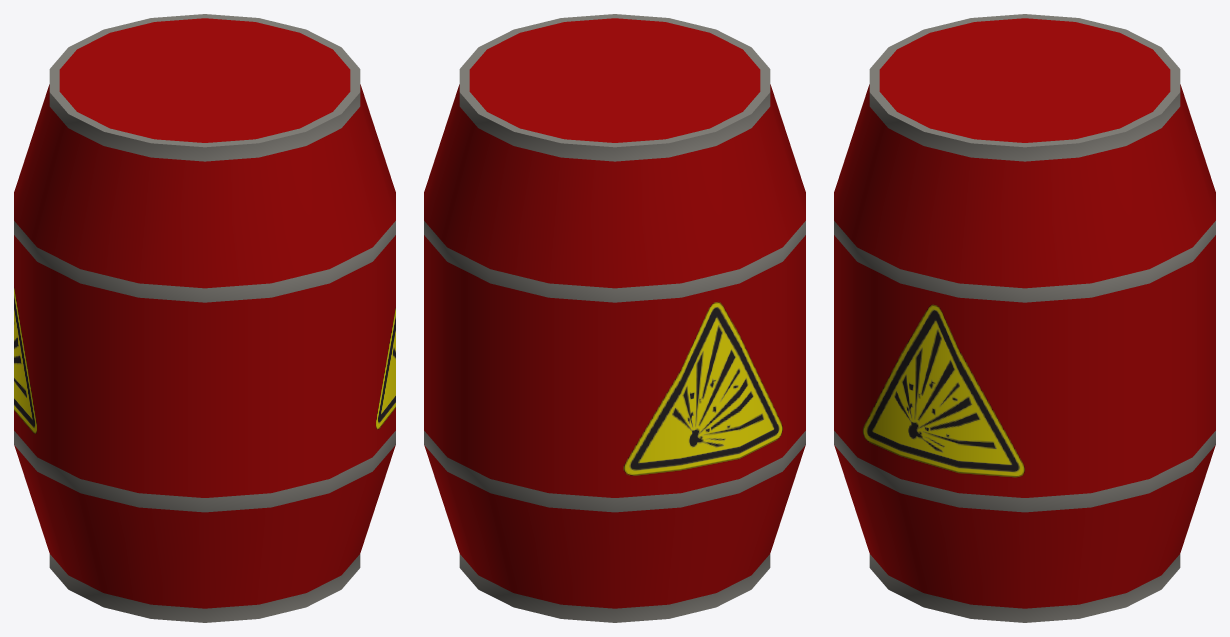
Rendered from Barrel.FBX.
3 renders of one model, left to right at view 1: azimuth 30°, elevation 25°; view 2: azimuth 150°, elevation 25°; view 3: azimuth 270°, elevation 25°, orthographic.
Visible parts, largest first — view 1: Cylinder001; view 2: Cylinder001; view 3: Cylinder001.
Part boxes in pixels (x1,y1,x2,y2): Cylinder001: [14, 14, 395, 622]; Cylinder001: [424, 14, 805, 622]; Cylinder001: [834, 14, 1215, 622].
Bounding box in the file's own units: 13 × 17.61 × 12.81.
